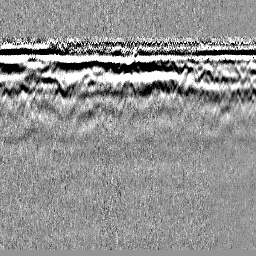cavity: (119, 71, 136, 95)
